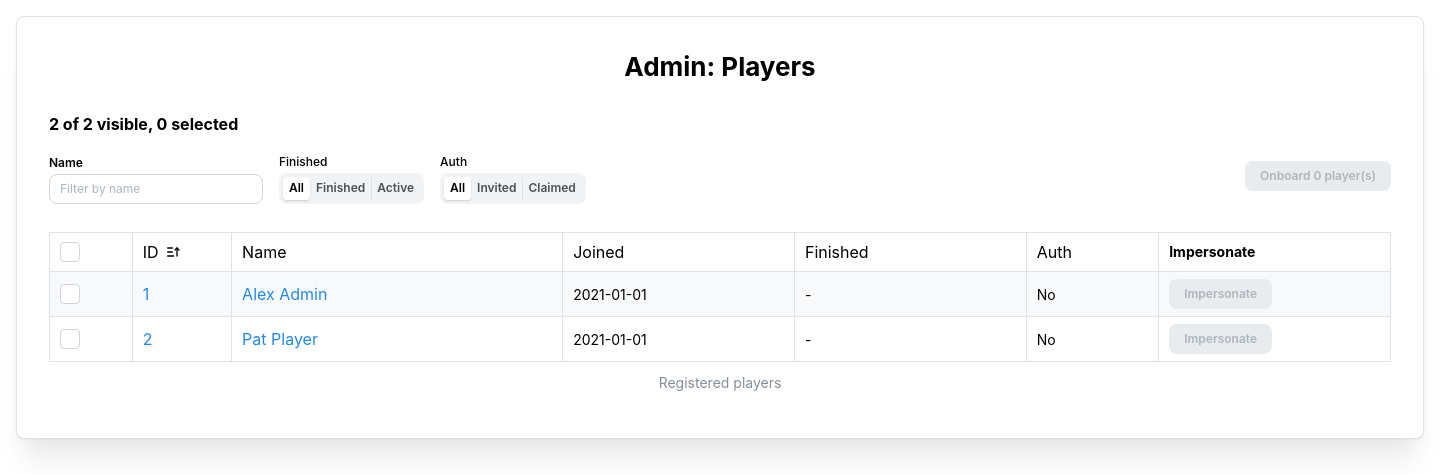
Test case: AdminPlayerList › select all › deselects all rows when select-all is unchecked
This screenshot has width=1440, height=475.
Click the checkbox named "Select all players" at (70, 252), box [60, 242, 80, 262]
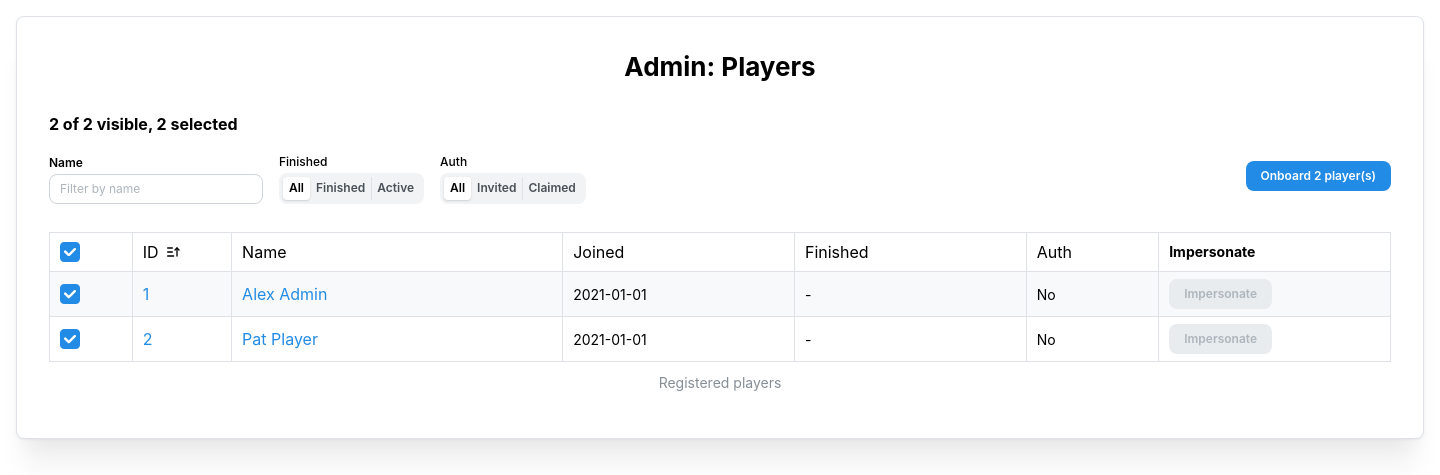
Click the checkbox named "Select all players" at (70, 252), box [60, 242, 80, 262]
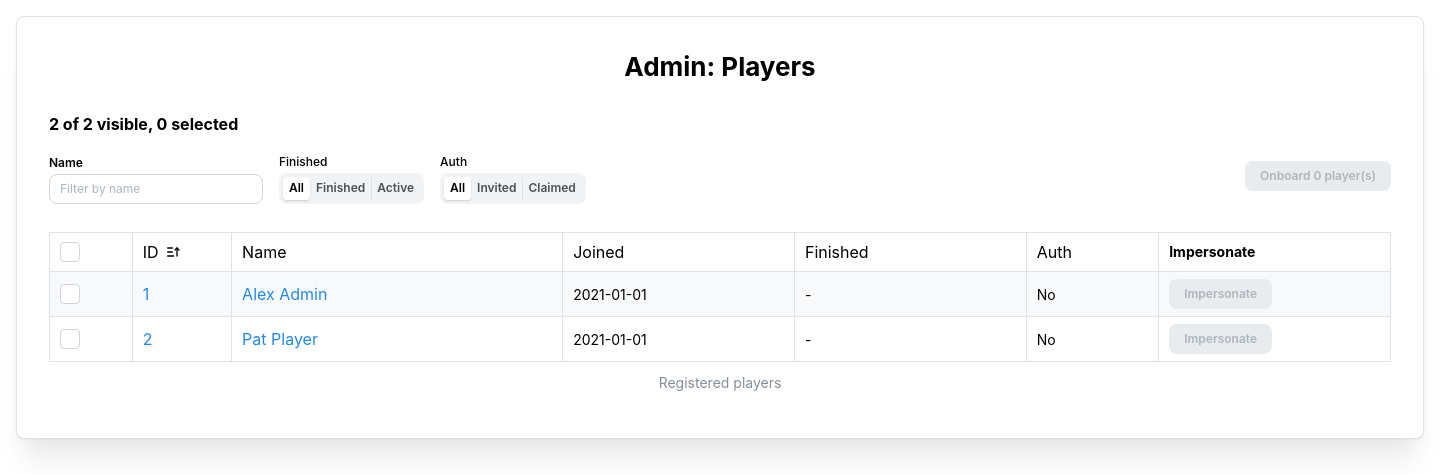
Result: the checkbox named "Select Alex Admin" is not checked at [60, 284, 80, 304]
Result: the checkbox named "Select Pat Player" is not checked at [60, 330, 80, 350]
